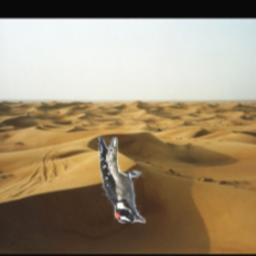Woodpecker: (97, 138, 145, 224)
